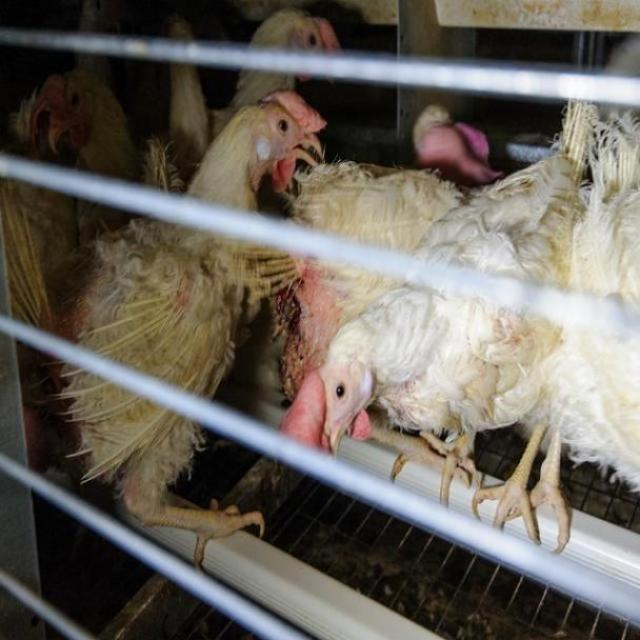Chicken: (239, 143, 603, 561), (40, 86, 332, 585), (10, 69, 203, 233), (196, 0, 346, 145)
